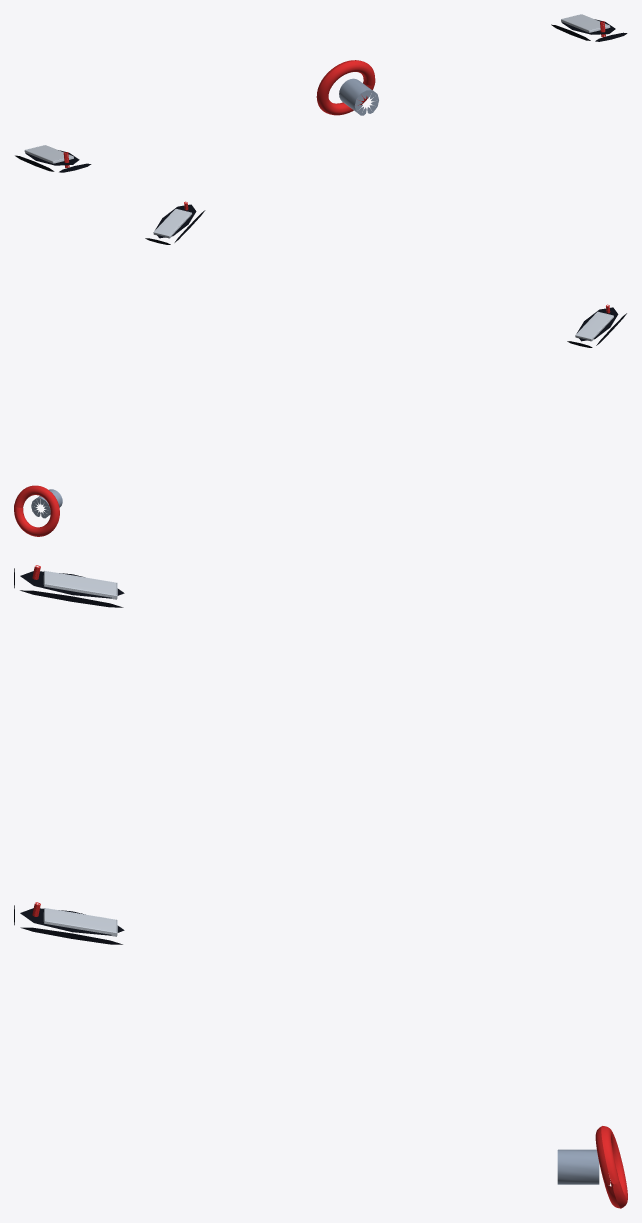
File: aerocatch_hood_latches.glb
3 views of the same model, one above another, from view 1: azimuth 30°, elevation 25°; view 2: azimuth 150°, elevation 25°; view 3: azimuth 270°, elevation 25° (orthographic). The views are drawn at different scales.
Parts seen in each view (by area): view 1: Aerocatch_Tow_Hook_Assembly; view 2: Aerocatch_Tow_Hook_Assembly; view 3: Aerocatch_Tow_Hook_Assembly.
Boxes of the visible parts, box(x1,y1,x2,y2) form: Aerocatch_Tow_Hook_Assembly: box(15, 14, 627, 172); Aerocatch_Tow_Hook_Assembly: box(14, 201, 626, 536); Aerocatch_Tow_Hook_Assembly: box(14, 565, 627, 1208).
Size of the model in its own units: 1.02 by 0.4279 by 0.739.
